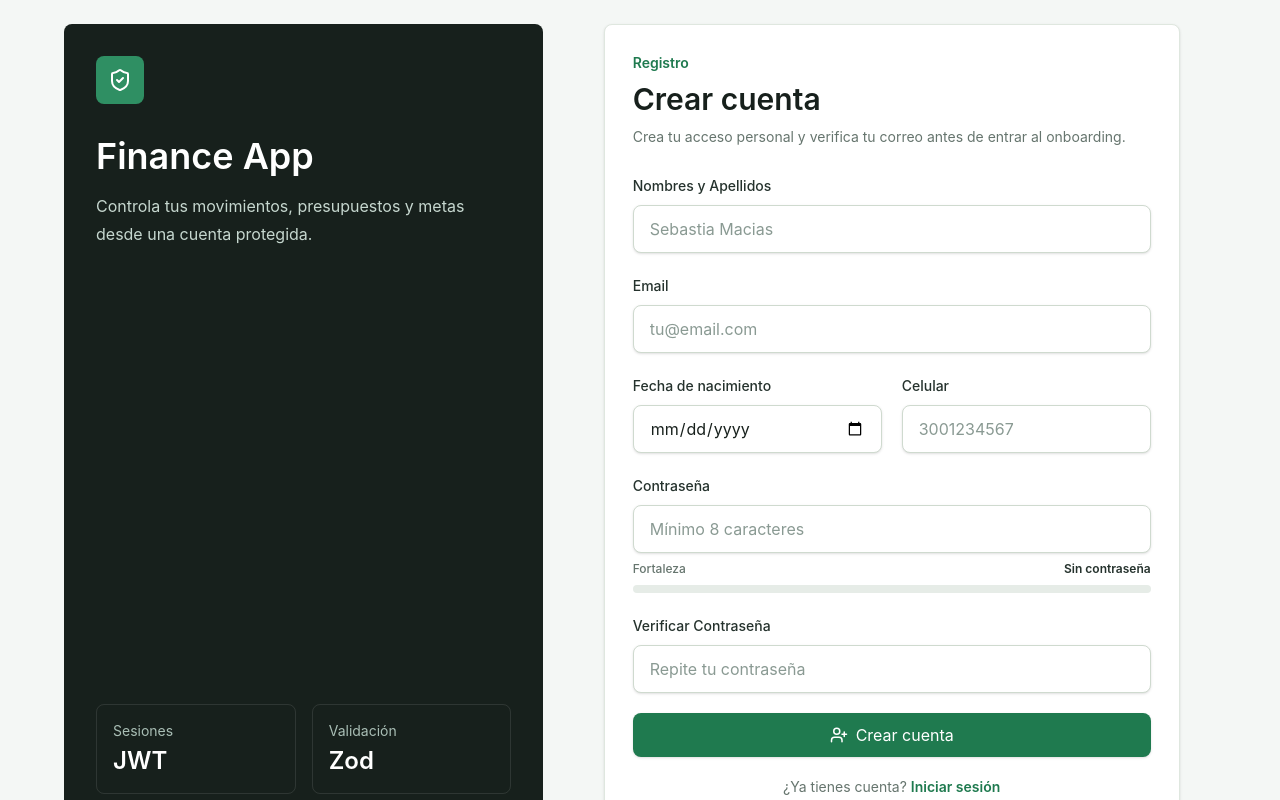
HU-01 Autenticacion y Onboarding › muestra el registro con indicador de fortaleza
This screenshot has width=1280, height=800.
Expected: the heading "Crear cuenta" is shown, [633,81,821,117]
Type "Clave@123" into the password field labelled "Contraseña".
click(892, 529); type("Clave@123")  # box [633,505,1151,553]
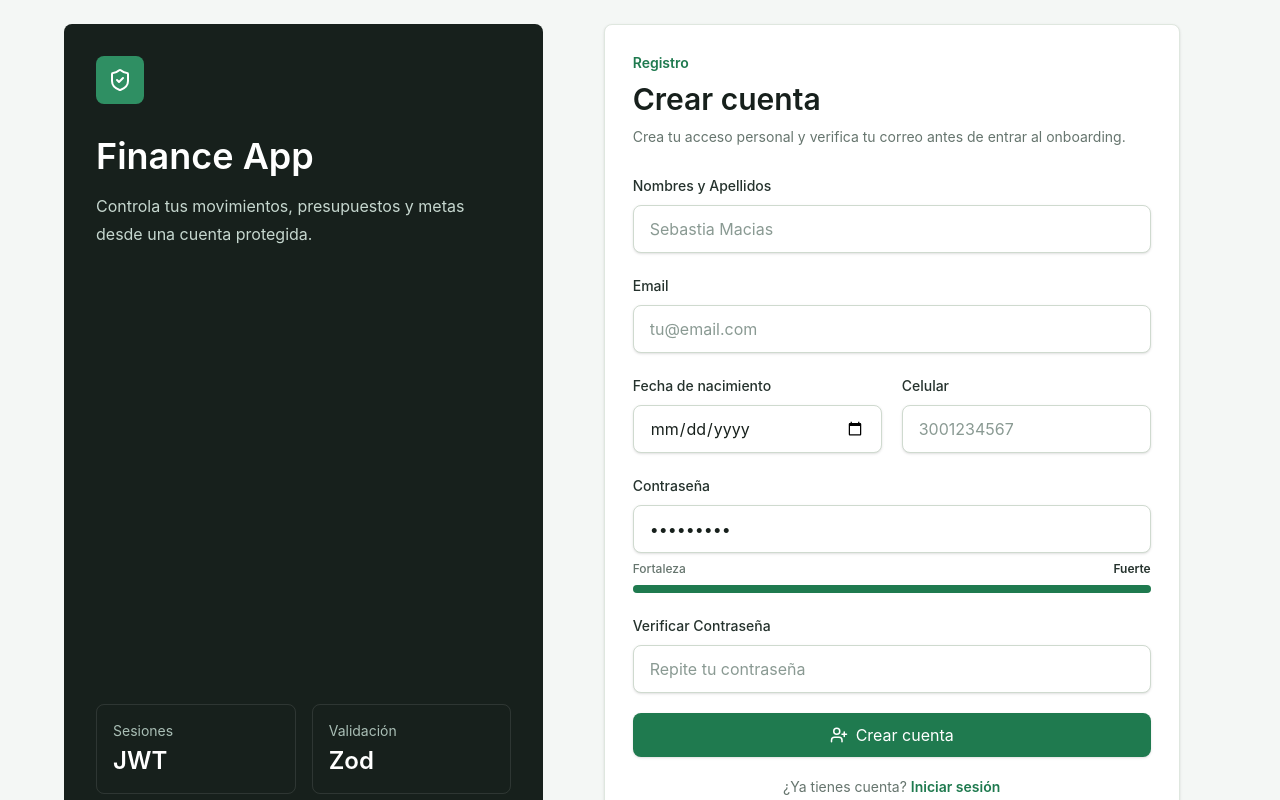
Result: the text "Fuerte" is shown at [1113,561,1151,577]
